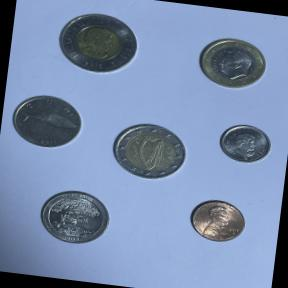1 Euro-B: (191, 33, 272, 96)
2 Euro-B: (106, 116, 195, 187)
Canada-10cent-B: (215, 118, 277, 170)
Canada-2Dollar-B: (48, 6, 146, 81)
Croatia-2Kune-B: (4, 88, 90, 156)
US-1cent-B: (185, 195, 252, 248)
US-25cent-B: (34, 184, 117, 252)
